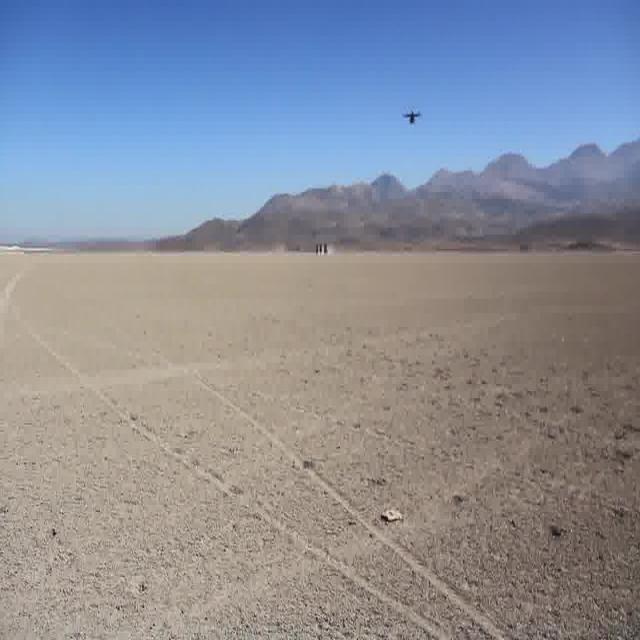drones: (396, 102, 428, 136)
